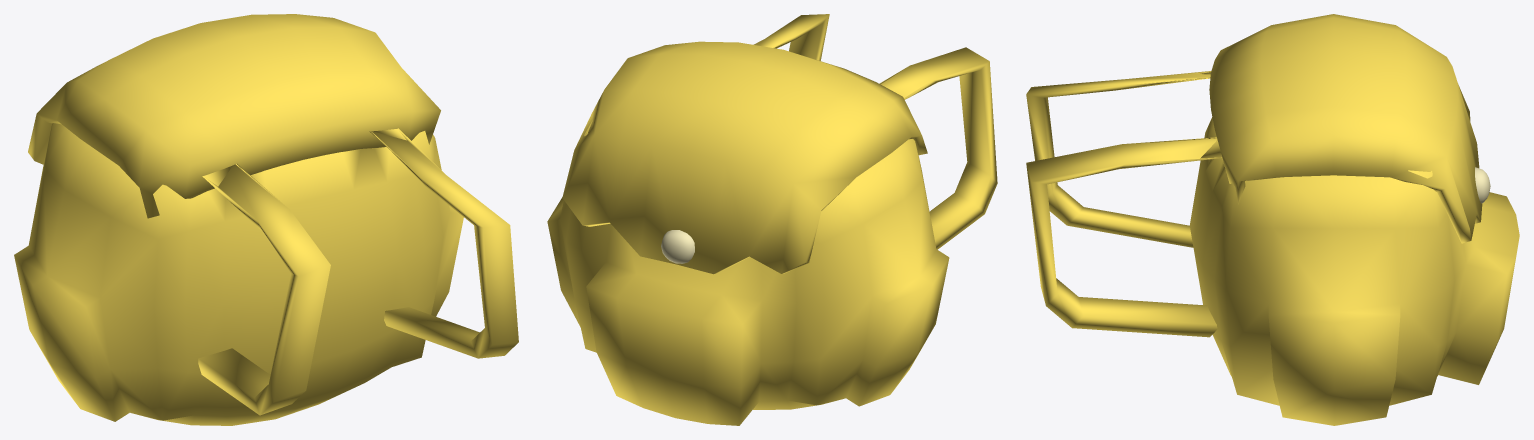
File: bag.obj
3 views of the same model, side by side, from view 1: azimuth 30°, elevation 25°; view 2: azimuth 150°, elevation 25°; view 3: azimuth 270°, elevation 25° (orthographic). The views are drawn at different scales.
Parts seen in each view (by area): view 1: bag; view 2: bag; view 3: bag.
Part boxes in pixels (<box>): bag: <box>14,14,518,425</box>; bag: <box>547,14,997,425</box>; bag: <box>1026,14,1519,425</box>.
Size of the model in its own units: 1.22 by 1.06 by 1.38.
1 material, 1 textured.
